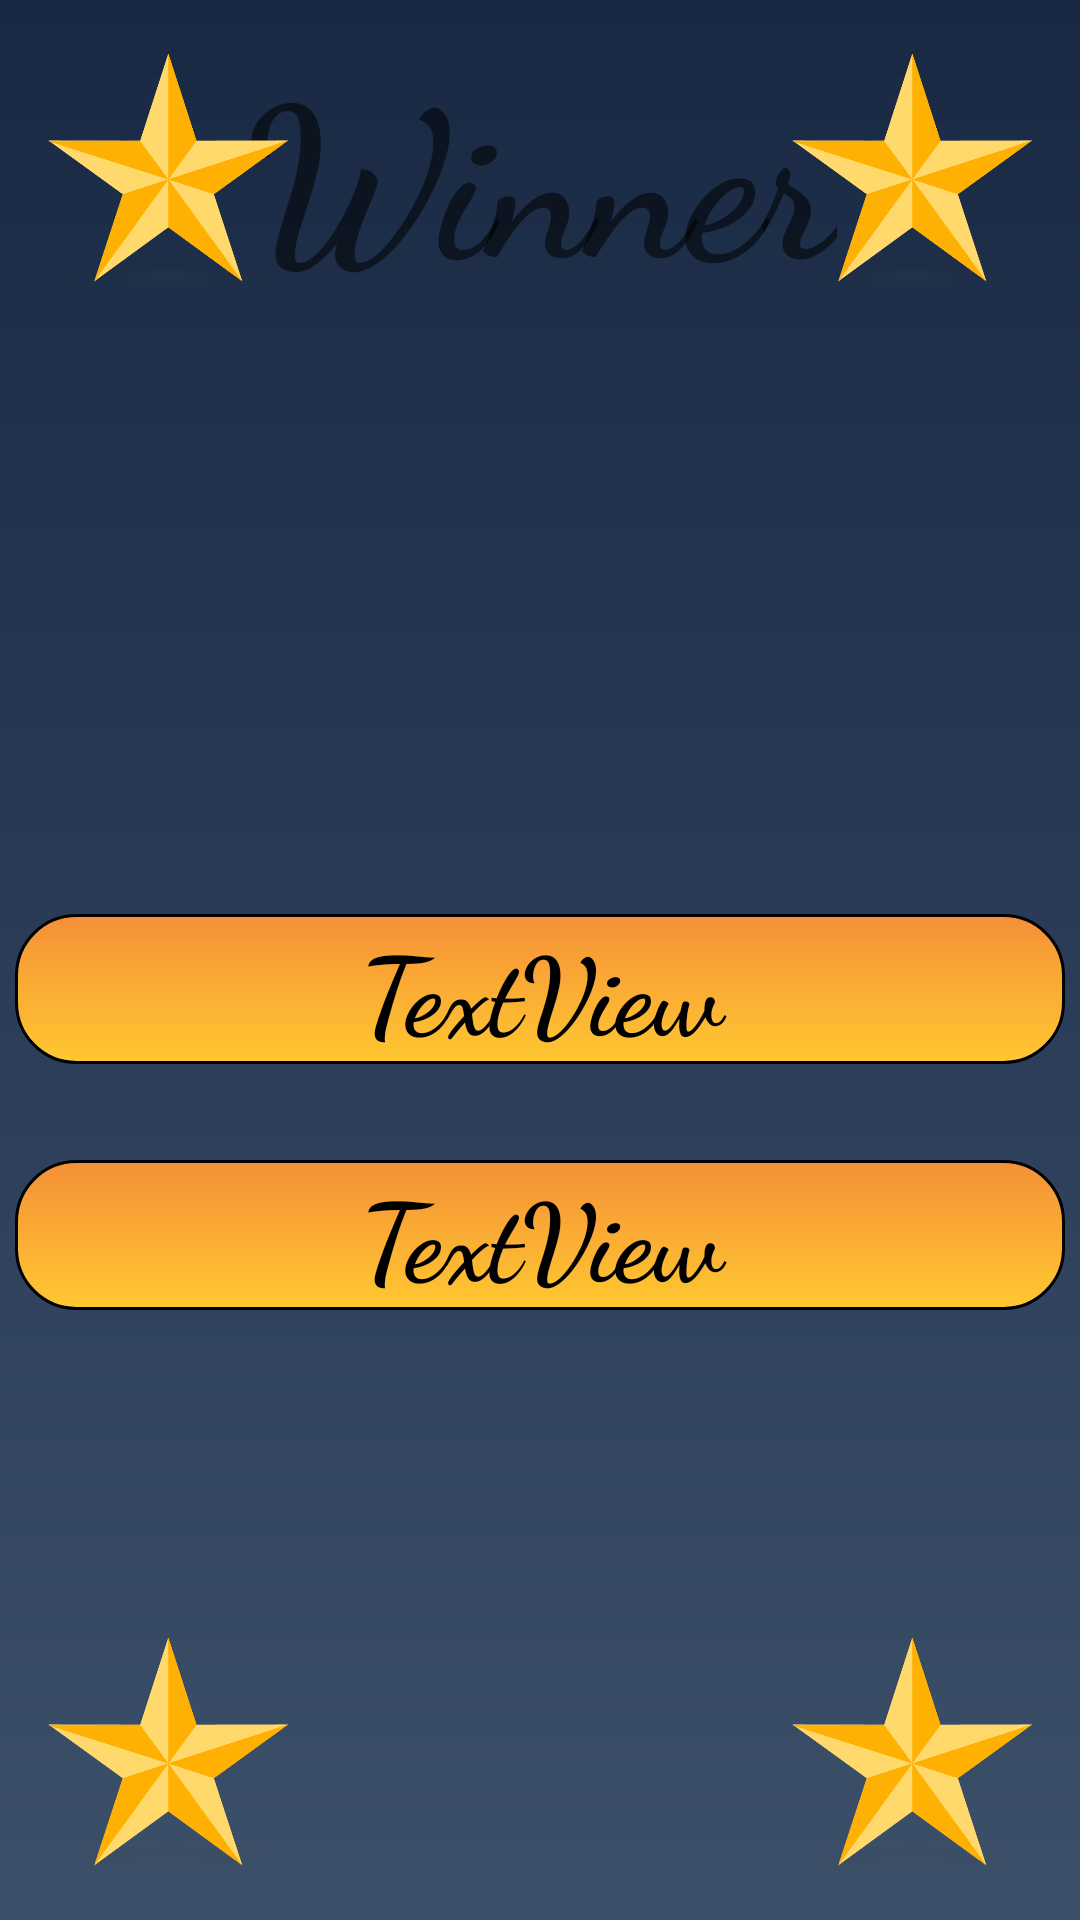

Icons on this 1080*1920 Android screen, each with its box as {"x1": x1, "y1": y1, "x2": x2, "y2": y2}:
star: {"x1": 48, "y1": 54, "x2": 288, "y2": 282}, {"x1": 792, "y1": 54, "x2": 1032, "y2": 282}, {"x1": 48, "y1": 1638, "x2": 288, "y2": 1866}, {"x1": 792, "y1": 1638, "x2": 1032, "y2": 1866}
